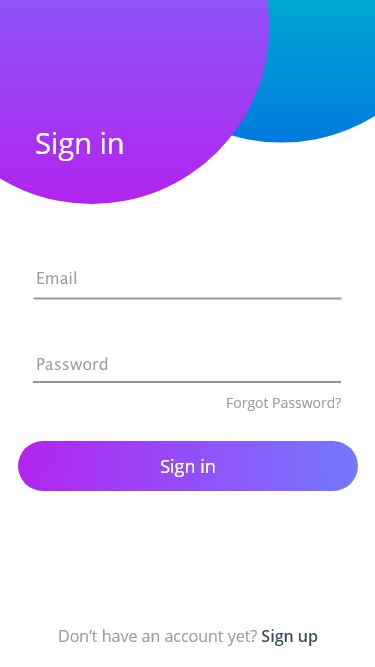EditText: (33, 271, 342, 301), (33, 357, 342, 384)
Text: (59, 628, 318, 647), (36, 132, 125, 163), (226, 397, 342, 412), (37, 357, 108, 371), (37, 271, 78, 285)
TextButton: (18, 441, 359, 492)
